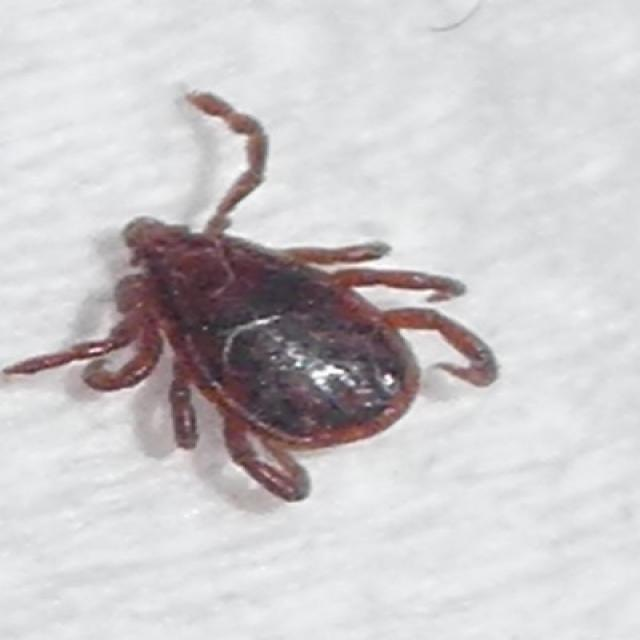Rhipicephalus Sanguineus-M: (8, 88, 499, 502)
